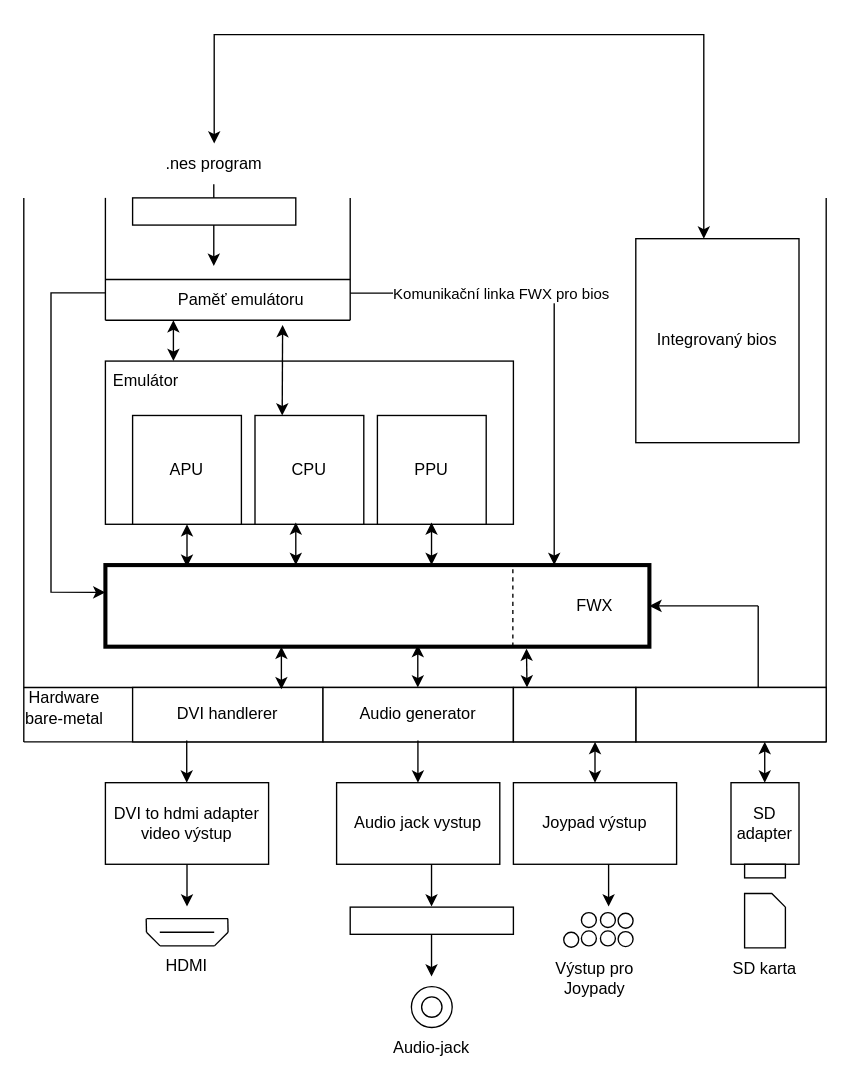
This 851x1092 diagram has some shape labels left out. Each missing label, with the box of its shape:
BUS: (103, 562, 651, 648)
DAC, zesilovač: (349, 906, 513, 934)
Fat fs: (634, 686, 826, 742)
Joypad handlerer: (512, 686, 636, 742)
pamětový microřadič: (131, 197, 296, 225)
